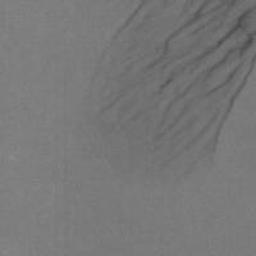Water spot: (76, 0, 256, 196)
